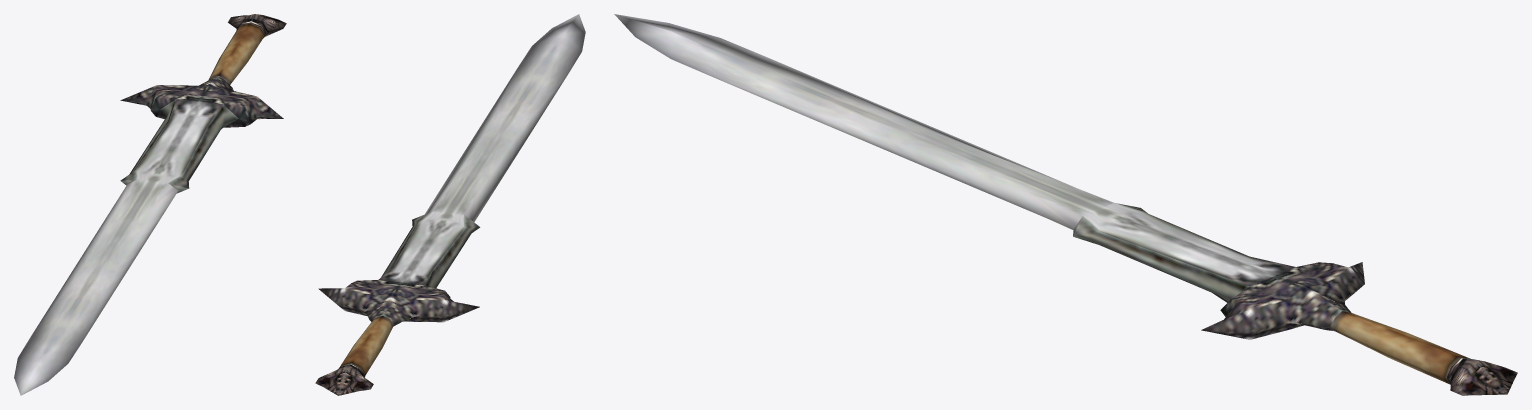
The model's file is Conan.ico.obj.
The picture shows the model from 3 angles, left to right: view 1: azimuth 30°, elevation 25°; view 2: azimuth 210°, elevation 25°; view 3: azimuth 270°, elevation 25°; orthographic projection. The views are drawn at different scales.
Bounding box in the file's own units: 4.5 × 0.2136 × 4.5.
1 material, 1 textured.
